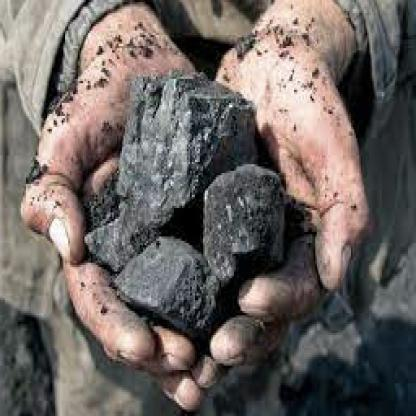Sedimentary_coal: (109, 61, 260, 221), (117, 201, 215, 341), (198, 153, 299, 287)
